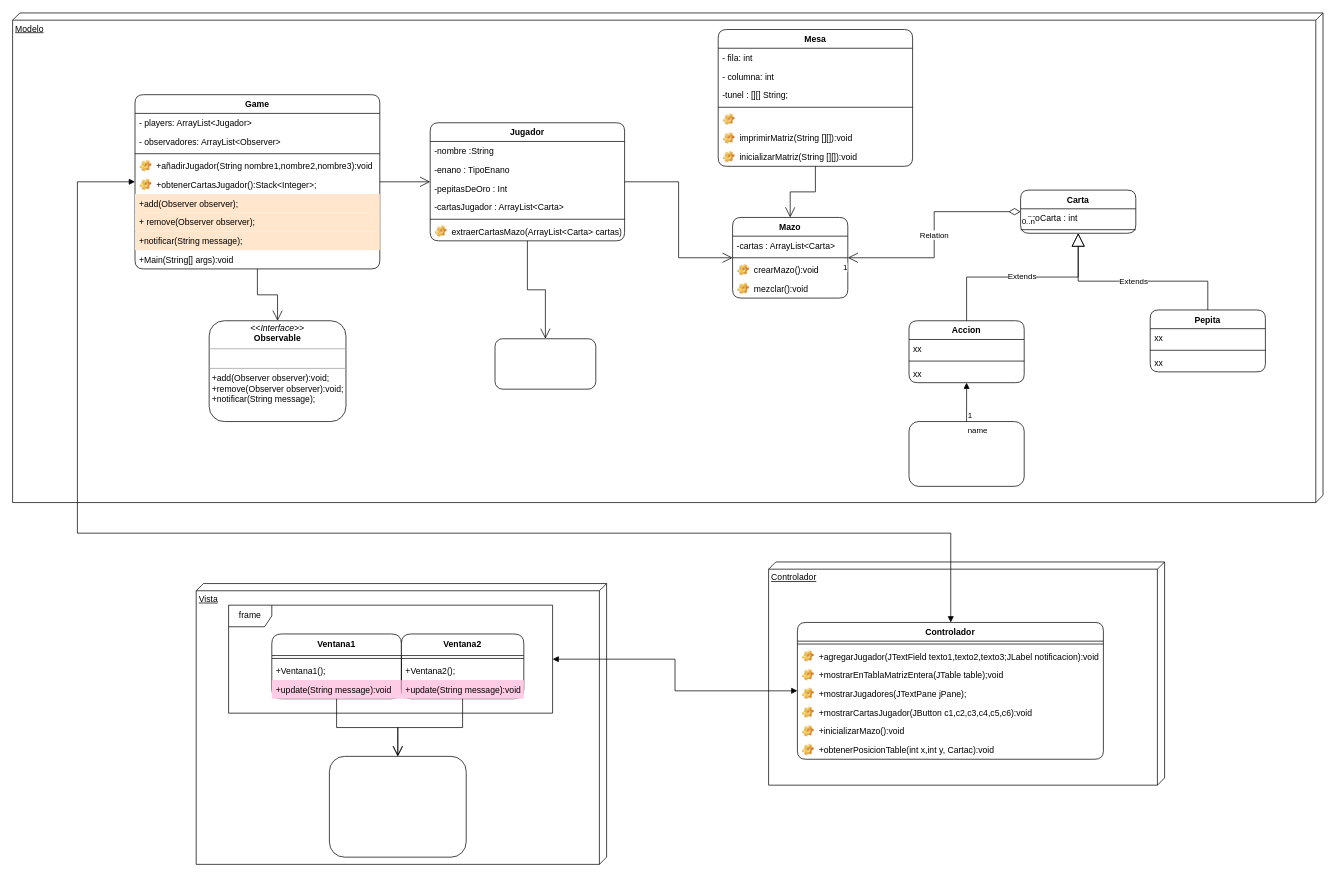
Some shapes in this 1336 by 877 pixel diagram are drawn without their labels. The shapes that lost their labels are listed below. From the top down, each one's centre as x and y in pixels, then its label:
the point at 815,119: validarPosicion(x,y : int ; Carta c):void
the point at 545,363: TipoEnano MINERO SABOTEADOR
the point at 966,453: TipoCarta <ENUM> HERR_ROTA HERR_REPARADA DERRUMBE MAPA
the point at 397,806: <<Interface>> Observer +update(message String);
